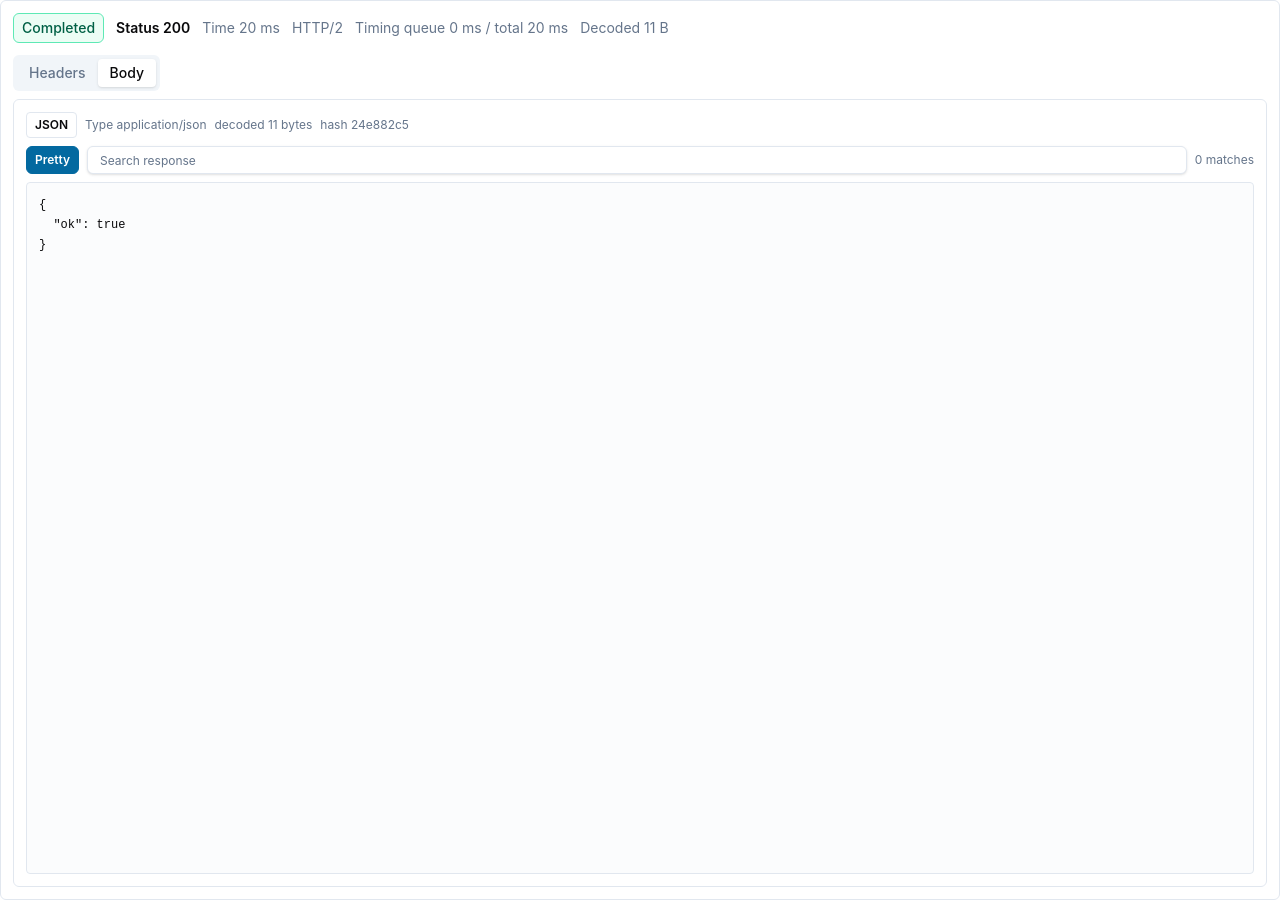
Test case: ResponsePanel › renders JSON pretty view with search results from the worker path
Type "ok" into the field labelled "Search response".
click(637, 160); type("ok")  # box [87,146,1187,174]
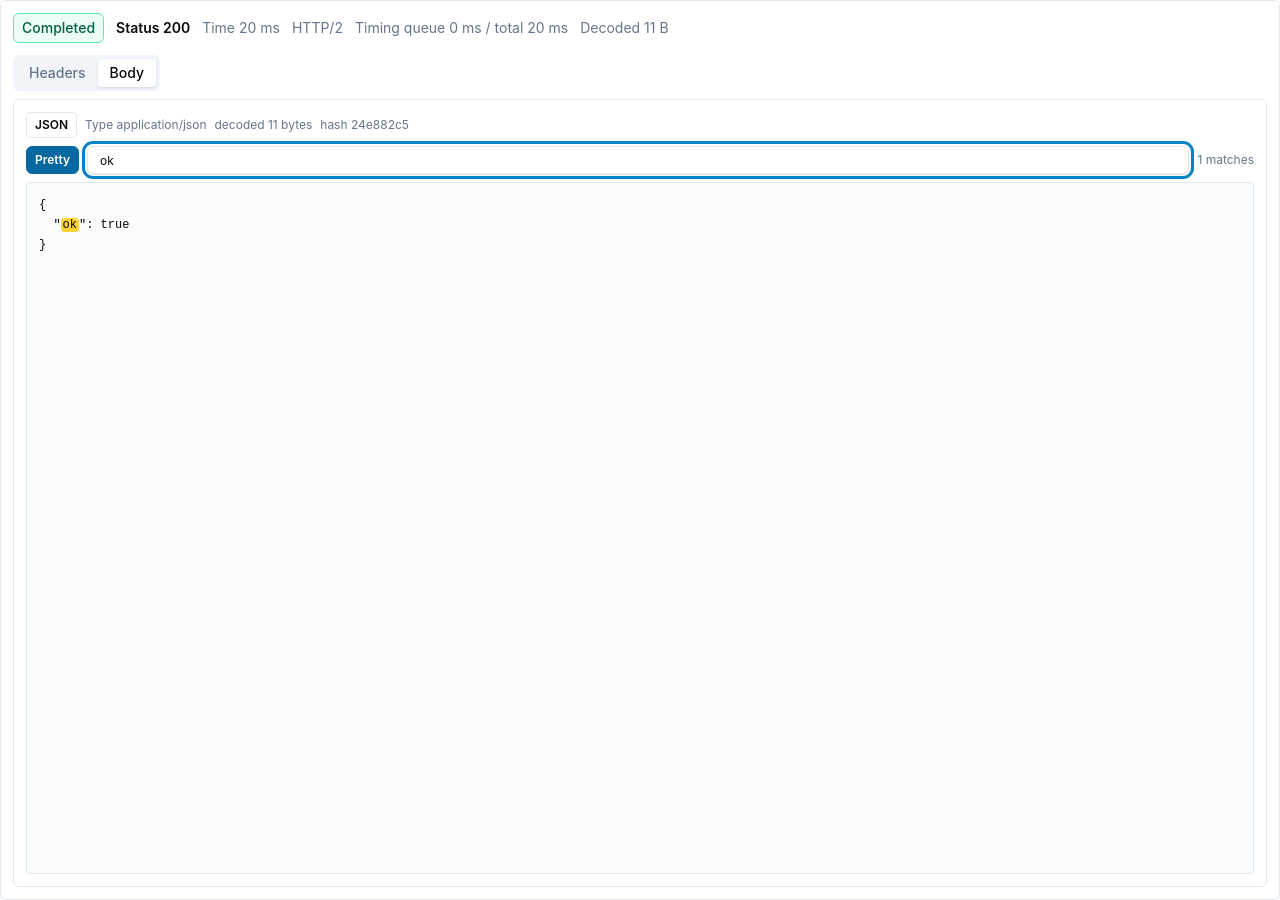
Expected: the text "1 matches" is shown, [1197,152,1254,168]
